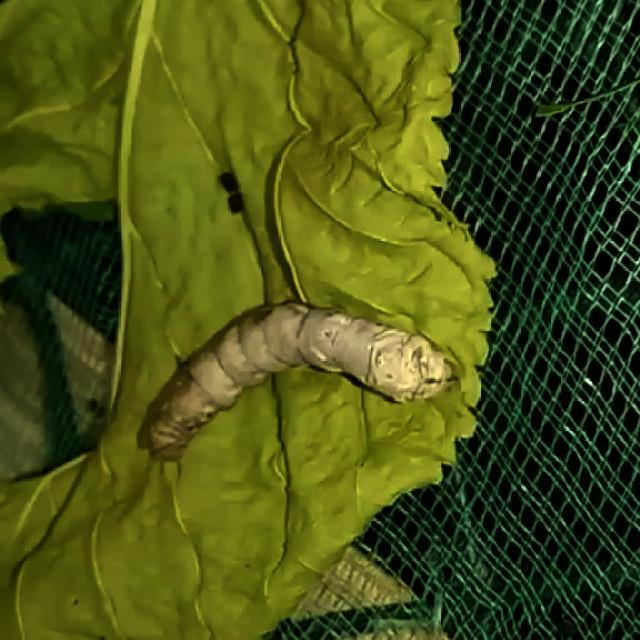Grasserie: (131, 286, 459, 484)
